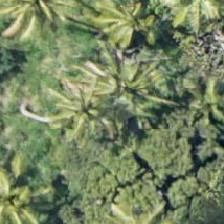coconut_tree: (40, 66, 130, 156), (74, 0, 164, 62), (0, 150, 48, 223), (0, 0, 73, 47)
